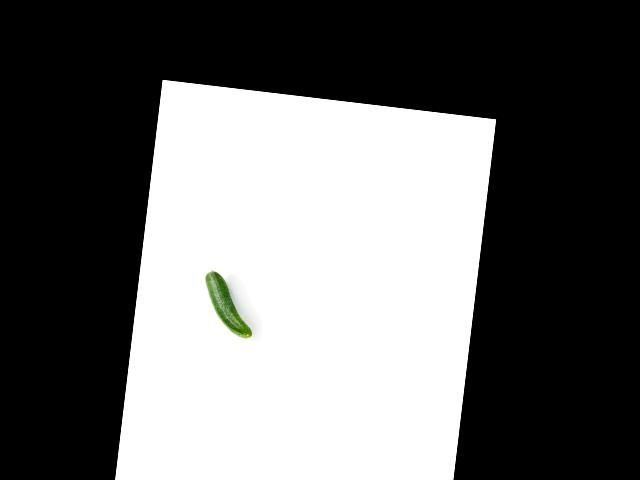cucumber: (199, 270, 259, 338)
